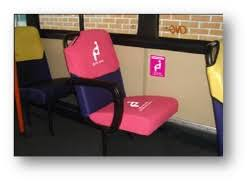seat: (68, 32, 178, 132)
